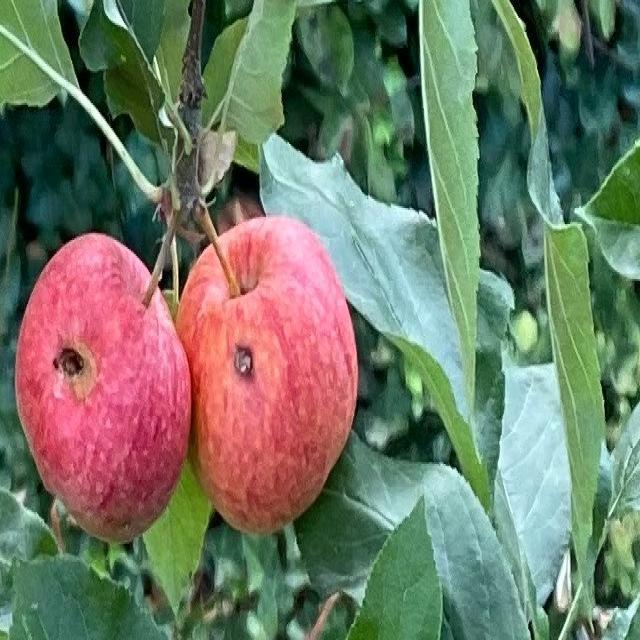apple: (176, 216, 357, 533), (16, 233, 190, 542)
